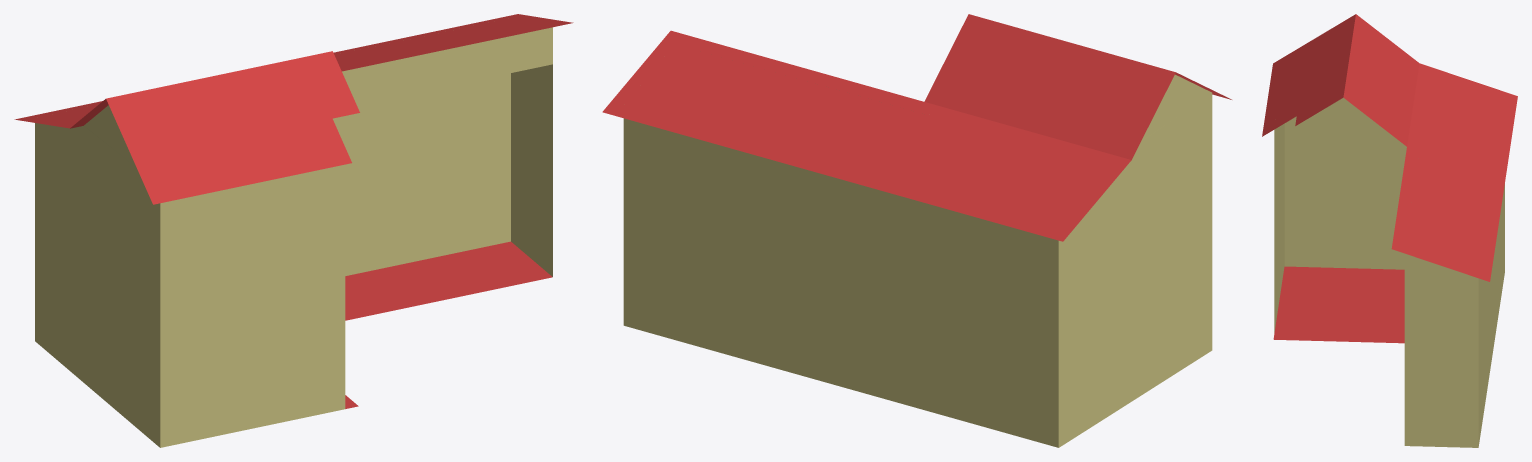
3 views of the same model, side by side, from view 1: azimuth 30°, elevation 25°; view 2: azimuth 150°, elevation 25°; view 3: azimuth 270°, elevation 25° (orthographic). The views are drawn at different scales.
Size of the model in its own units: 18.54 by 10.42 by 11.2.
